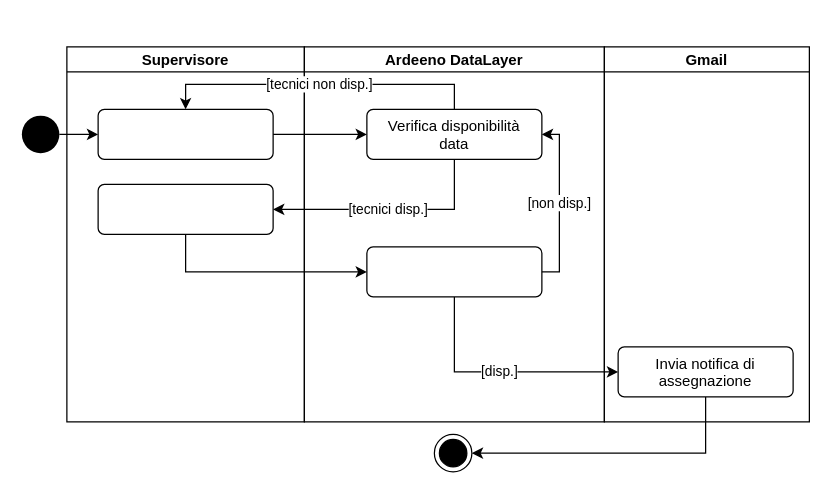
Some shapes in this 831 by 494 pixel diagram are drawn without their labels. Each missing label, with the centre of its shape:
Seleziona data: (185,133)
Seleziona tecnico: (185,208)
Verifica disponibilità e assegna Tecnico: (454,271)
